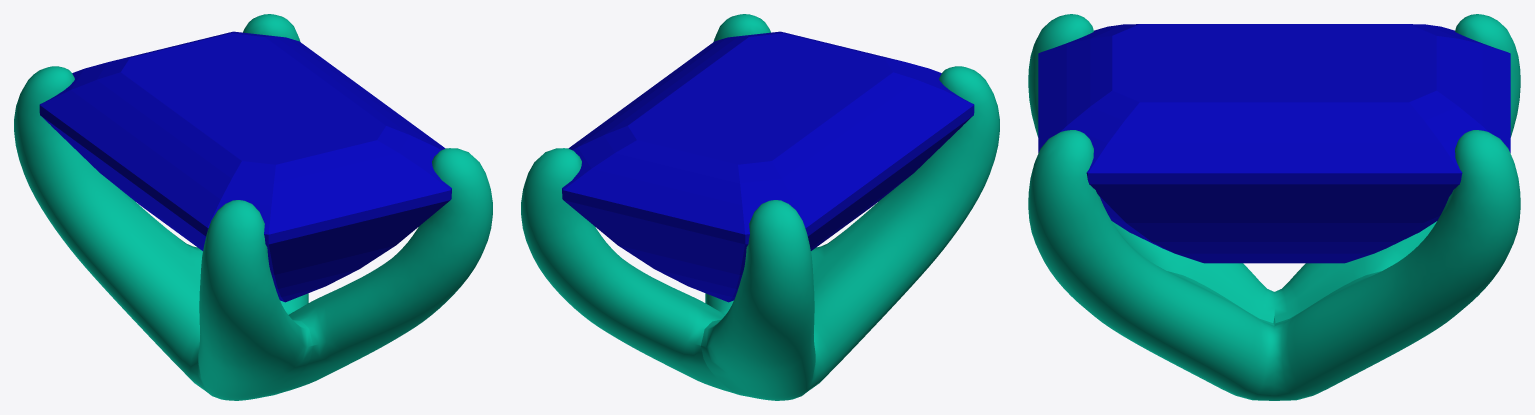
File: emerald.glb
3 views of the same model, side by side, from view 1: azimuth 30°, elevation 25°; view 2: azimuth 150°, elevation 25°; view 3: azimuth 270°, elevation 25° (orthographic). The views are drawn at different scales.
Visible parts, largest first — view 1: DIA-EMRHD-B1-1, MTL-HEAD-1 (×4); view 2: DIA-EMRHD-B1-1, MTL-HEAD-1 (×4); view 3: DIA-EMRHD-B1-1, MTL-HEAD-1 (×4).
Part boxes in pixels (<box>): DIA-EMRHD-B1-1: <box>39,31,451,302</box>; MTL-HEAD-1 (×4): <box>14,14,492,400</box>; DIA-EMRHD-B1-1: <box>562,31,974,302</box>; MTL-HEAD-1 (×4): <box>521,14,999,400</box>; DIA-EMRHD-B1-1: <box>1038,24,1510,263</box>; MTL-HEAD-1 (×4): <box>1028,14,1520,400</box>.
Size of the model in its own units: 6.51 by 6.28 by 8.86.
